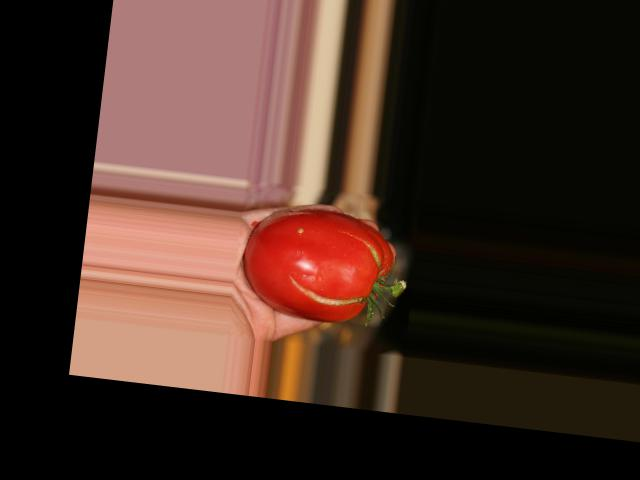tomato: (237, 200, 398, 327)
